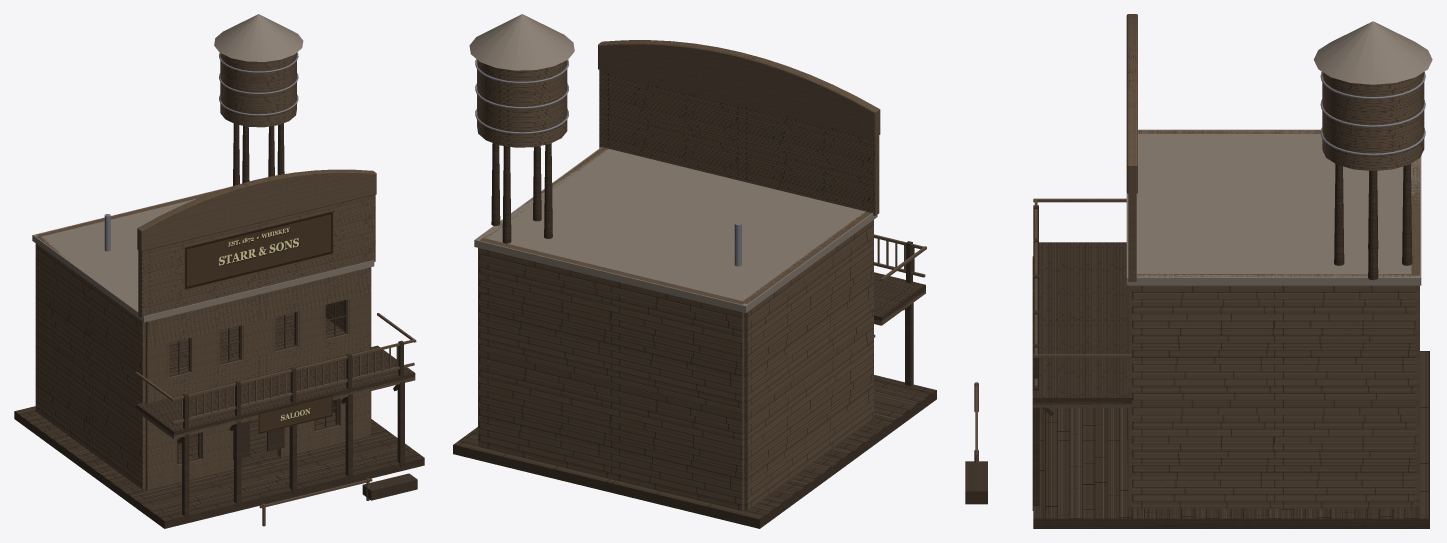
Rendered from starr_and_sons_saloon.glb.
The picture shows the model from 3 angles, left to right: view 1: azimuth 30°, elevation 25°; view 2: azimuth 150°, elevation 25°; view 3: azimuth 270°, elevation 25°; orthographic projection. The views are drawn at different scales.
Size of the model in its own units: 14.1 by 18.85 by 16.5.
6 materials, 4 textured.
